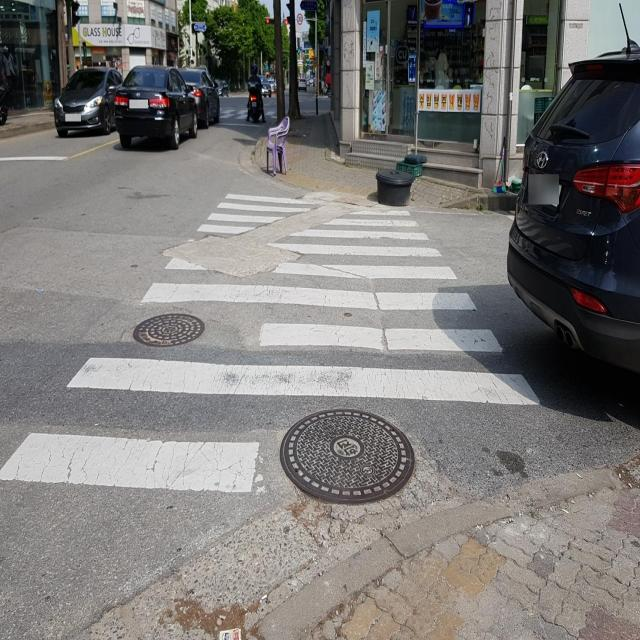횡단보도: (0, 191, 541, 497)
